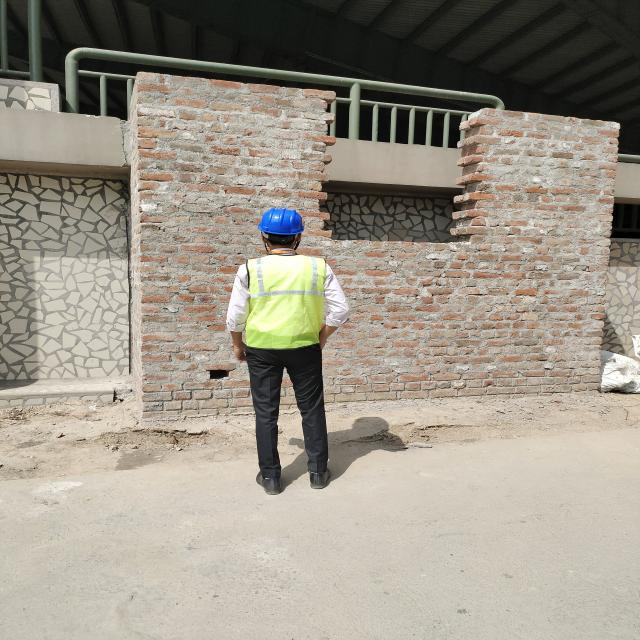safe: (228, 209, 346, 494)
